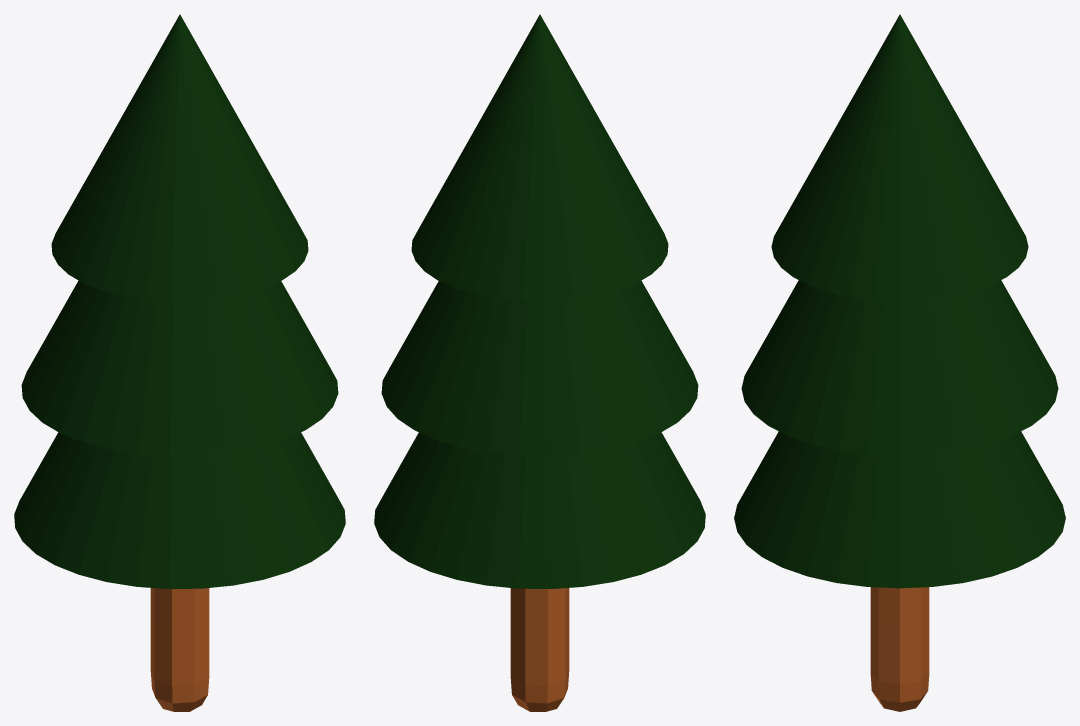
Rendered from Arbol 2.fbx.
3 views of the same model, side by side, from view 1: azimuth 30°, elevation 25°; view 2: azimuth 150°, elevation 25°; view 3: azimuth 270°, elevation 25° (orthographic).
Visible parts, largest first — view 1: Cone; view 2: Cone; view 3: Cone.
Boxes of the visible parts, <box> form: Cone: <box>14,14,345,711</box>; Cone: <box>374,14,705,711</box>; Cone: <box>734,14,1065,711</box>.
Size of the model in its own units: 258 by 596 by 258.
